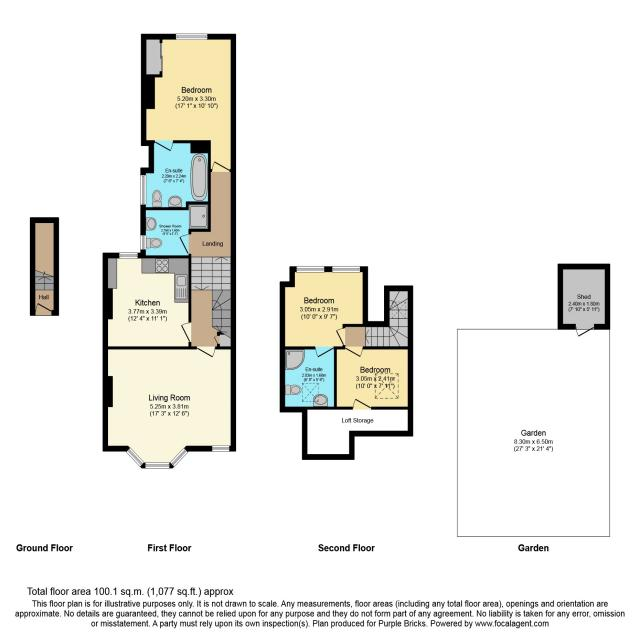DOOR: (179, 233, 191, 255), (180, 321, 191, 343), (352, 398, 372, 410), (196, 346, 216, 358), (154, 140, 174, 152), (315, 346, 334, 358), (345, 346, 363, 358), (335, 327, 346, 346), (212, 161, 230, 172)
ROOM: (102, 346, 236, 469), (141, 33, 236, 173), (103, 253, 191, 349), (280, 266, 368, 359), (334, 346, 413, 410)
WINDOW: (126, 447, 188, 469), (176, 33, 208, 40), (296, 266, 325, 273), (332, 266, 360, 273), (140, 175, 146, 205), (119, 252, 138, 259), (212, 445, 230, 452), (140, 235, 146, 250)
